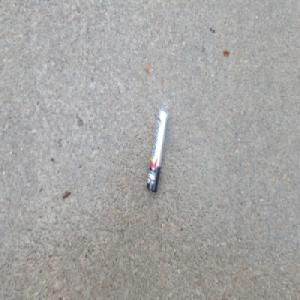Battery: (146, 109, 168, 194)
